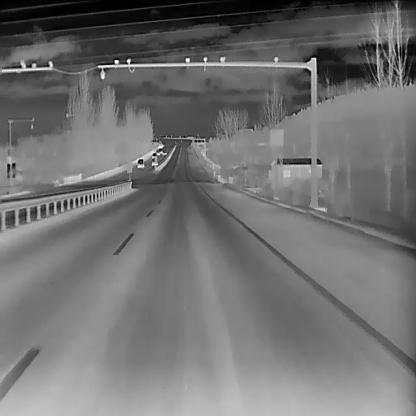car: (136, 158, 144, 168), (151, 156, 158, 166), (158, 147, 162, 154), (155, 150, 160, 155), (162, 150, 167, 155), (152, 152, 156, 158)
